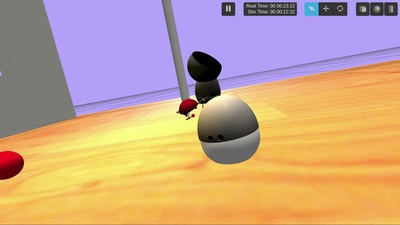mira_robot: (198, 95, 260, 165)
